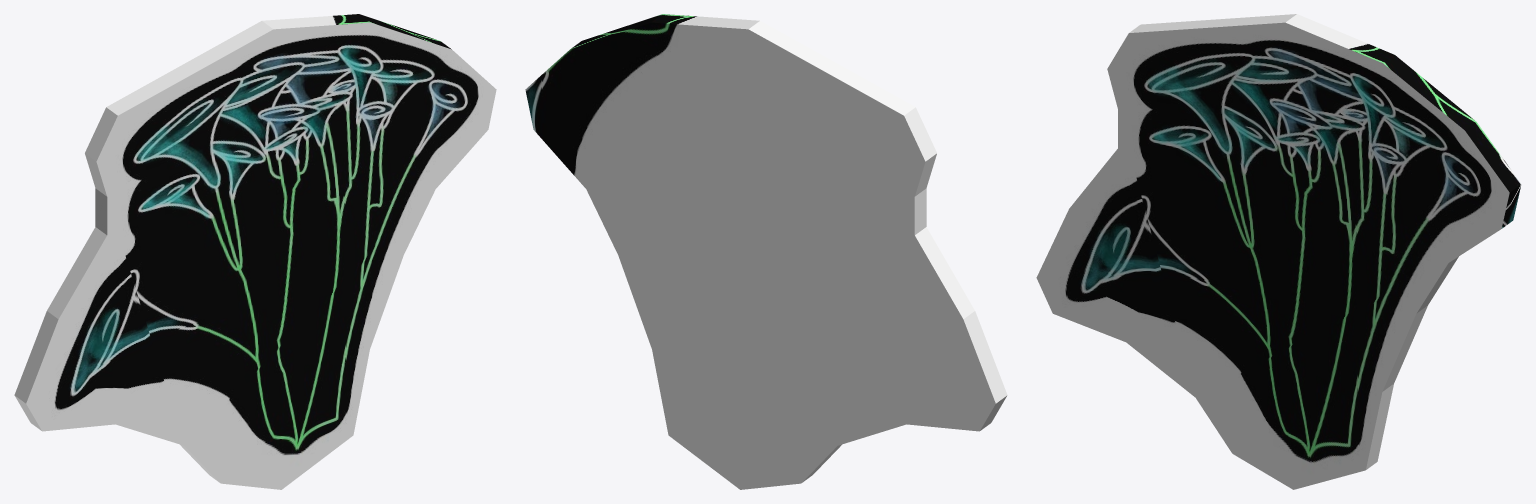
File: bush_02_03.obj
The picture shows the model from 3 angles, left to right: view 1: azimuth 30°, elevation 25°; view 2: azimuth 150°, elevation 25°; view 3: azimuth 330°, elevation 25°; orthographic projection.
Visible parts, largest first — view 1: MeshBody1; view 2: MeshBody1; view 3: MeshBody1.
Boxes of the visible parts, bbox=[...] form: MeshBody1: bbox=[14, 14, 496, 489]; MeshBody1: bbox=[525, 14, 1007, 489]; MeshBody1: bbox=[1036, 14, 1521, 489].
Size of the model in its own units: 1.16 by 1.09 by 0.05.
